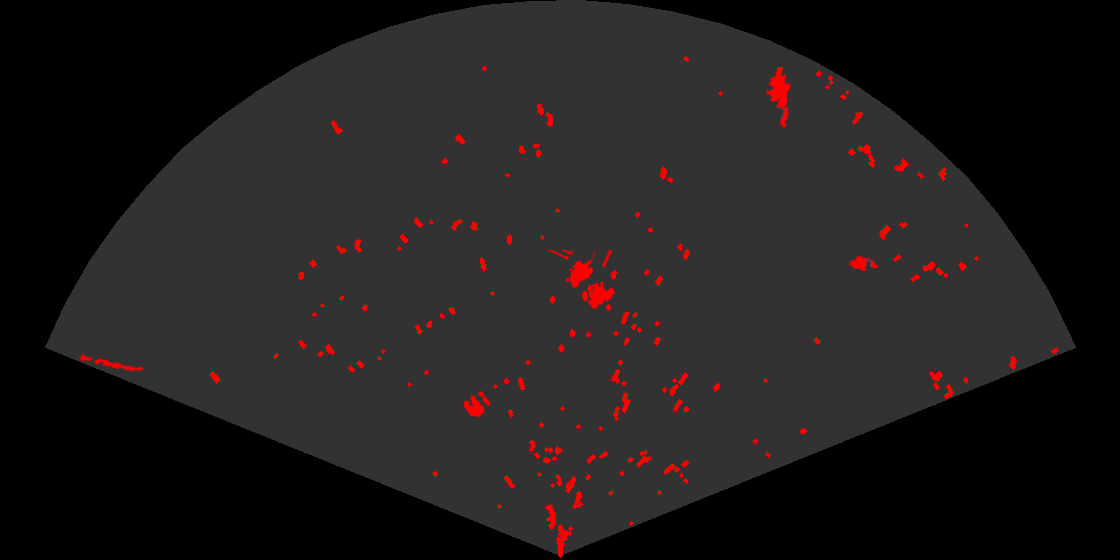AUV: (847, 254, 880, 273)
ball: (462, 389, 492, 419)
cage: (547, 250, 617, 310)
chain: (76, 352, 145, 373)
frogman: (764, 67, 792, 129)
